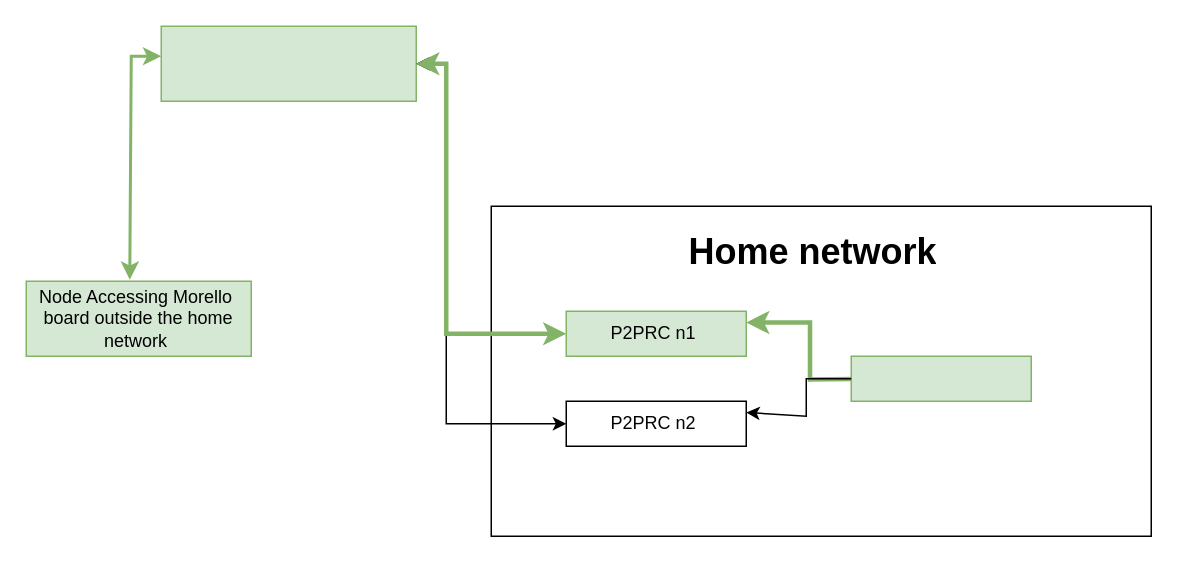
Image size: 1178x563. Some labels were removed from this diagram. Each missing label, with the centre of its shape:
Group of Root Nodes: point (288, 63)
Morello board: point (940, 378)
